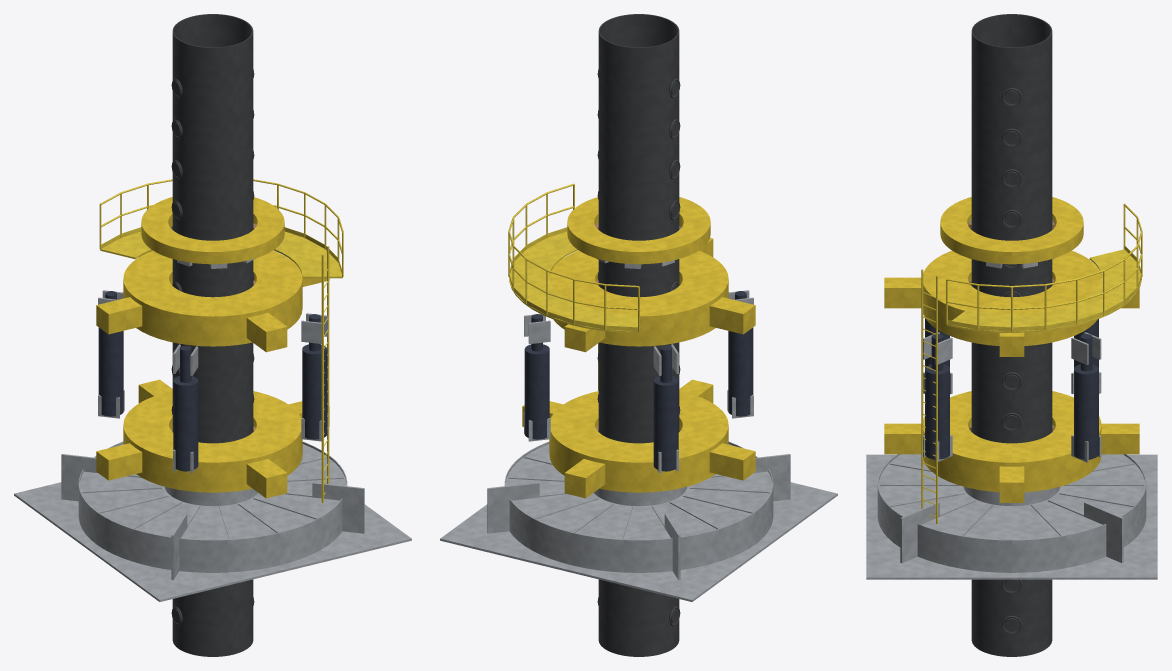
The model's file is hydraulic-jacking-units.glb.
The picture shows the model from 3 angles, left to right: view 1: azimuth 30°, elevation 25°; view 2: azimuth 150°, elevation 25°; view 3: azimuth 270°, elevation 25°; orthographic projection.
Visible parts, largest first — view 1: JackHouseBase, LegSection, UpperYoke&GuideRing, LowerYoke, HydraulicCylinders(context), AccessPlatform&Ladder, CylinderBrackets&PadShoes; view 2: JackHouseBase, LegSection, UpperYoke&GuideRing, LowerYoke, HydraulicCylinders(context), AccessPlatform&Ladder, CylinderBrackets&PadShoes; view 3: LegSection, JackHouseBase, UpperYoke&GuideRing, LowerYoke, AccessPlatform&Ladder, HydraulicCylinders(context), CylinderBrackets&PadShoes.
Part boxes in pixels (x1,y1,x2,y2): JackHouseBase: (14,441,411,601); LegSection: (171,14,254,656); UpperYoke&GuideRing: (96,197,329,352); LowerYoke: (96,379,329,498); HydraulicCylinders(context): (98,291,327,471); AccessPlatform&Ladder: (99,179,343,502); CylinderBrackets&PadShoes: (98,223,327,473); JackHouseBase: (440,441,837,601); LegSection: (597,14,680,656); UpperYoke&GuideRing: (549,197,755,352); LowerYoke: (522,379,755,498); HydraulicCylinders(context): (524,291,753,471); AccessPlatform&Ladder: (508,183,639,390); CylinderBrackets&PadShoes: (524,223,753,473); LegSection: (971,14,1052,656); JackHouseBase: (866,454,1157,579); UpperYoke&GuideRing: (884,197,1139,356); LowerYoke: (884,391,1139,502); AccessPlatform&Ladder: (921,203,1142,523); HydraulicCylinders(context): (925,318,1098,459); CylinderBrackets&PadShoes: (923,220,1101,462).
Size of the model in its own units: 6.5 by 15 by 6.5.
Materials: 7 (7 with a texture image).
